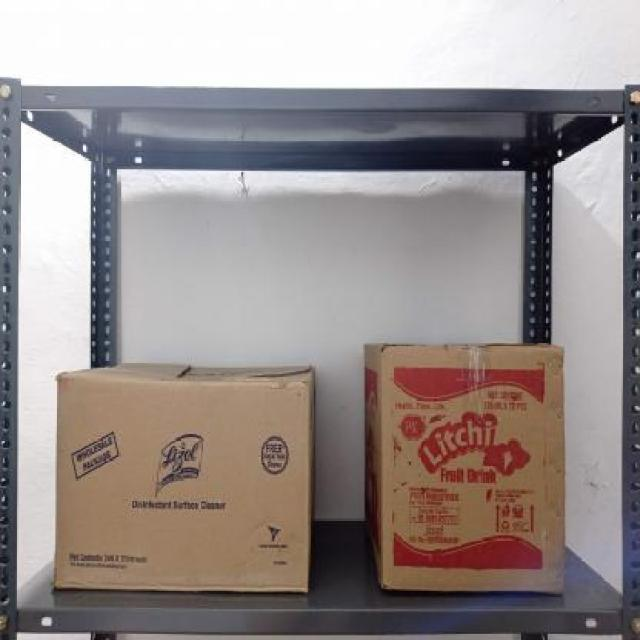box: (53, 373, 310, 590), (378, 342, 567, 593)
